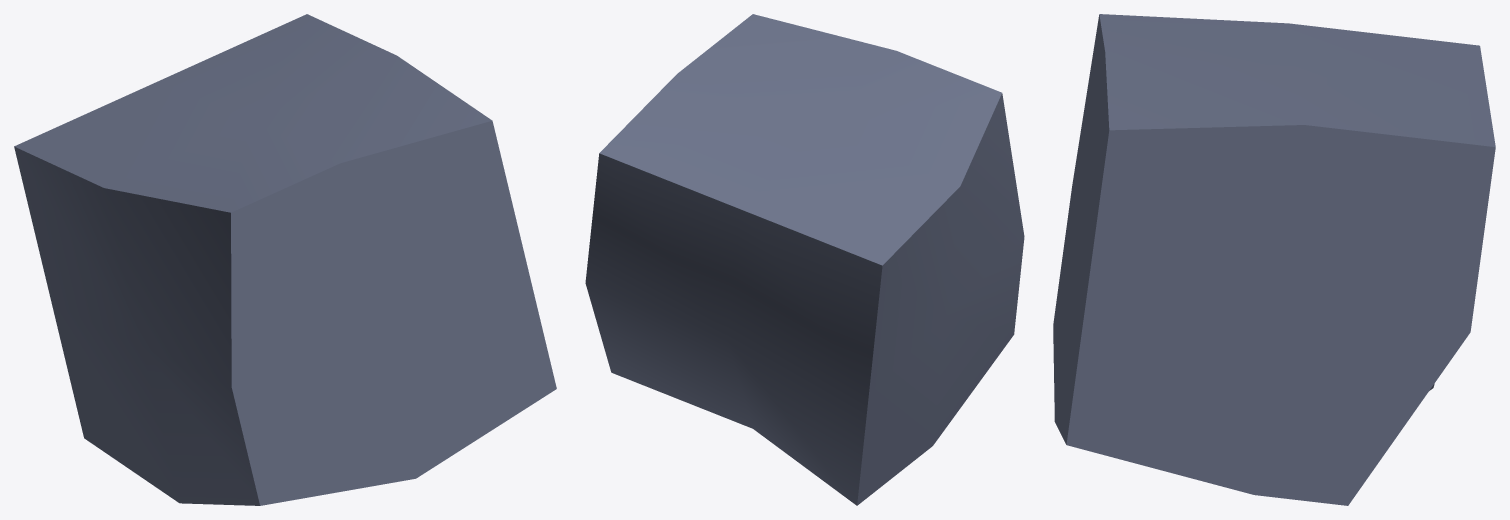
Rendered from Rock3.fbx.
3 renders of one model, left to right at view 1: azimuth 30°, elevation 25°; view 2: azimuth 150°, elevation 25°; view 3: azimuth 270°, elevation 25°, orthographic. The views are drawn at different scales.
Parts seen in each view (by area): view 1: Rock1; view 2: Rock1; view 3: Rock1.
Boxes of the visible parts, x1=… form: Rock1: x1=14, y1=14, x2=556, y2=505; Rock1: x1=585, y1=14, x2=1024, y2=505; Rock1: x1=1053, y1=14, x2=1495, y2=505.
Bounding box in the file's own units: 117 × 115 × 115.
